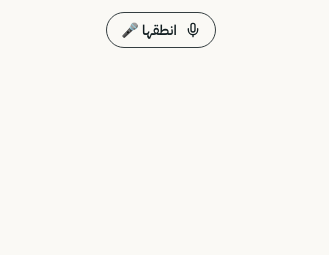
Test case: showing the score › reports phoneme accuracy for a single word
Click the button "انطقها 🎤": x=161, y=30 x1=106 y1=12 x2=216 y2=48
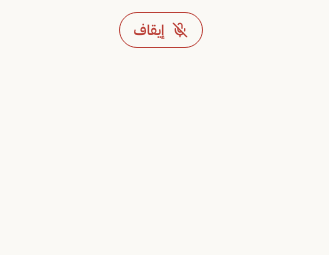
Click the button "إيقاف": x=161, y=30 x1=119 y1=12 x2=203 y2=48
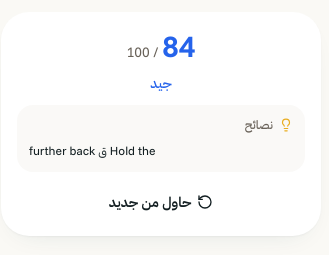
Expected: the text "84" is shown, x1=162 y1=27 x2=195 y2=65
